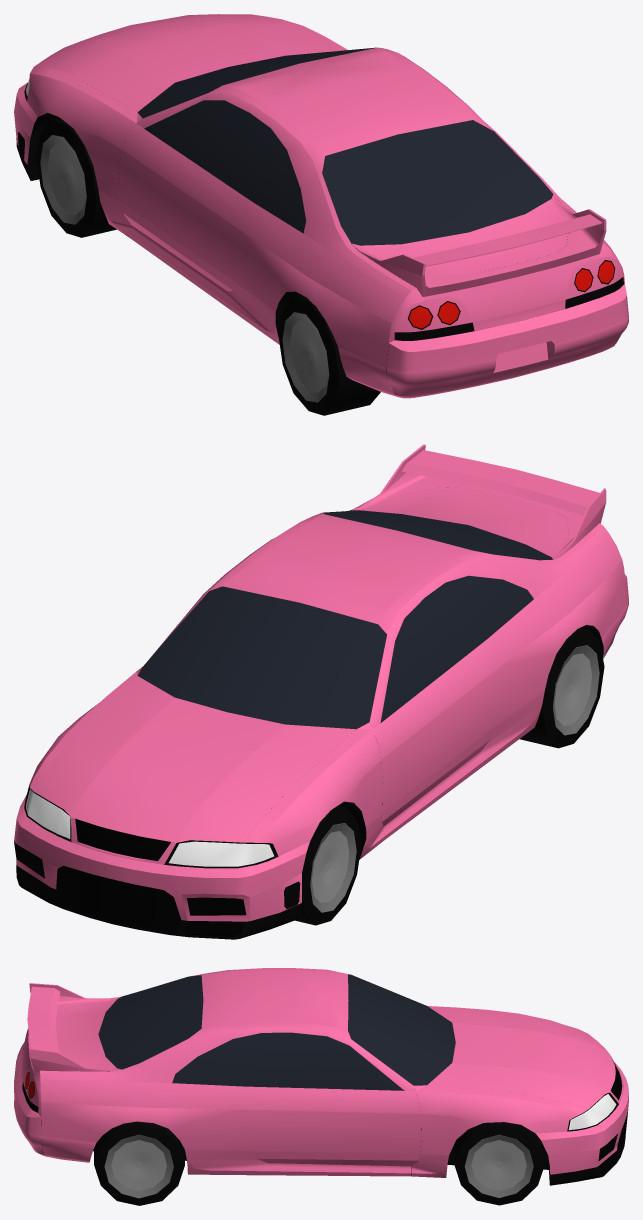
Rendered from nissan.fbx.
3 views of the same model, one above another, from view 1: azimuth 30°, elevation 25°; view 2: azimuth 150°, elevation 25°; view 3: azimuth 270°, elevation 25° (orthographic). The views are drawn at different scales.
Visible parts, largest first — view 1: Paint.004, Window, Tires.003, Rims.003, Body.004, Rear.003; view 2: Paint.004, Window, Body.004, Rims.003, Tires.003, Front.002; view 3: Paint.004, Window, Rims.003, Tires.003, Body.004, Front.002.
Boxes of the visible parts, <box> form: Paint.004: <box>14,14,628,398</box>; Window: <box>137,47,553,245</box>; Tires.003: <box>36,118,380,415</box>; Rims.003: <box>40,135,329,402</box>; Body.004: <box>16,83,623,372</box>; Rear.003: <box>409,261,614,328</box>; Paint.004: <box>14,444,628,921</box>; Window: <box>137,510,552,729</box>; Body.004: <box>14,625,603,939</box>; Rims.003: <box>310,645,599,912</box>; Tires.003: <box>295,627,604,925</box>; Front.002: <box>26,789,273,866</box>; Paint.004: <box>14,968,628,1177</box>; Window: <box>98,974,455,1090</box>; Rims.003: <box>104,1134,533,1198</box>; Tires.003: <box>94,1067,544,1205</box>; Body.004: <box>22,1044,627,1185</box>; Front.002: <box>568,1094,616,1129</box>.
Size of the model in its own units: 178 by 137 by 466.
